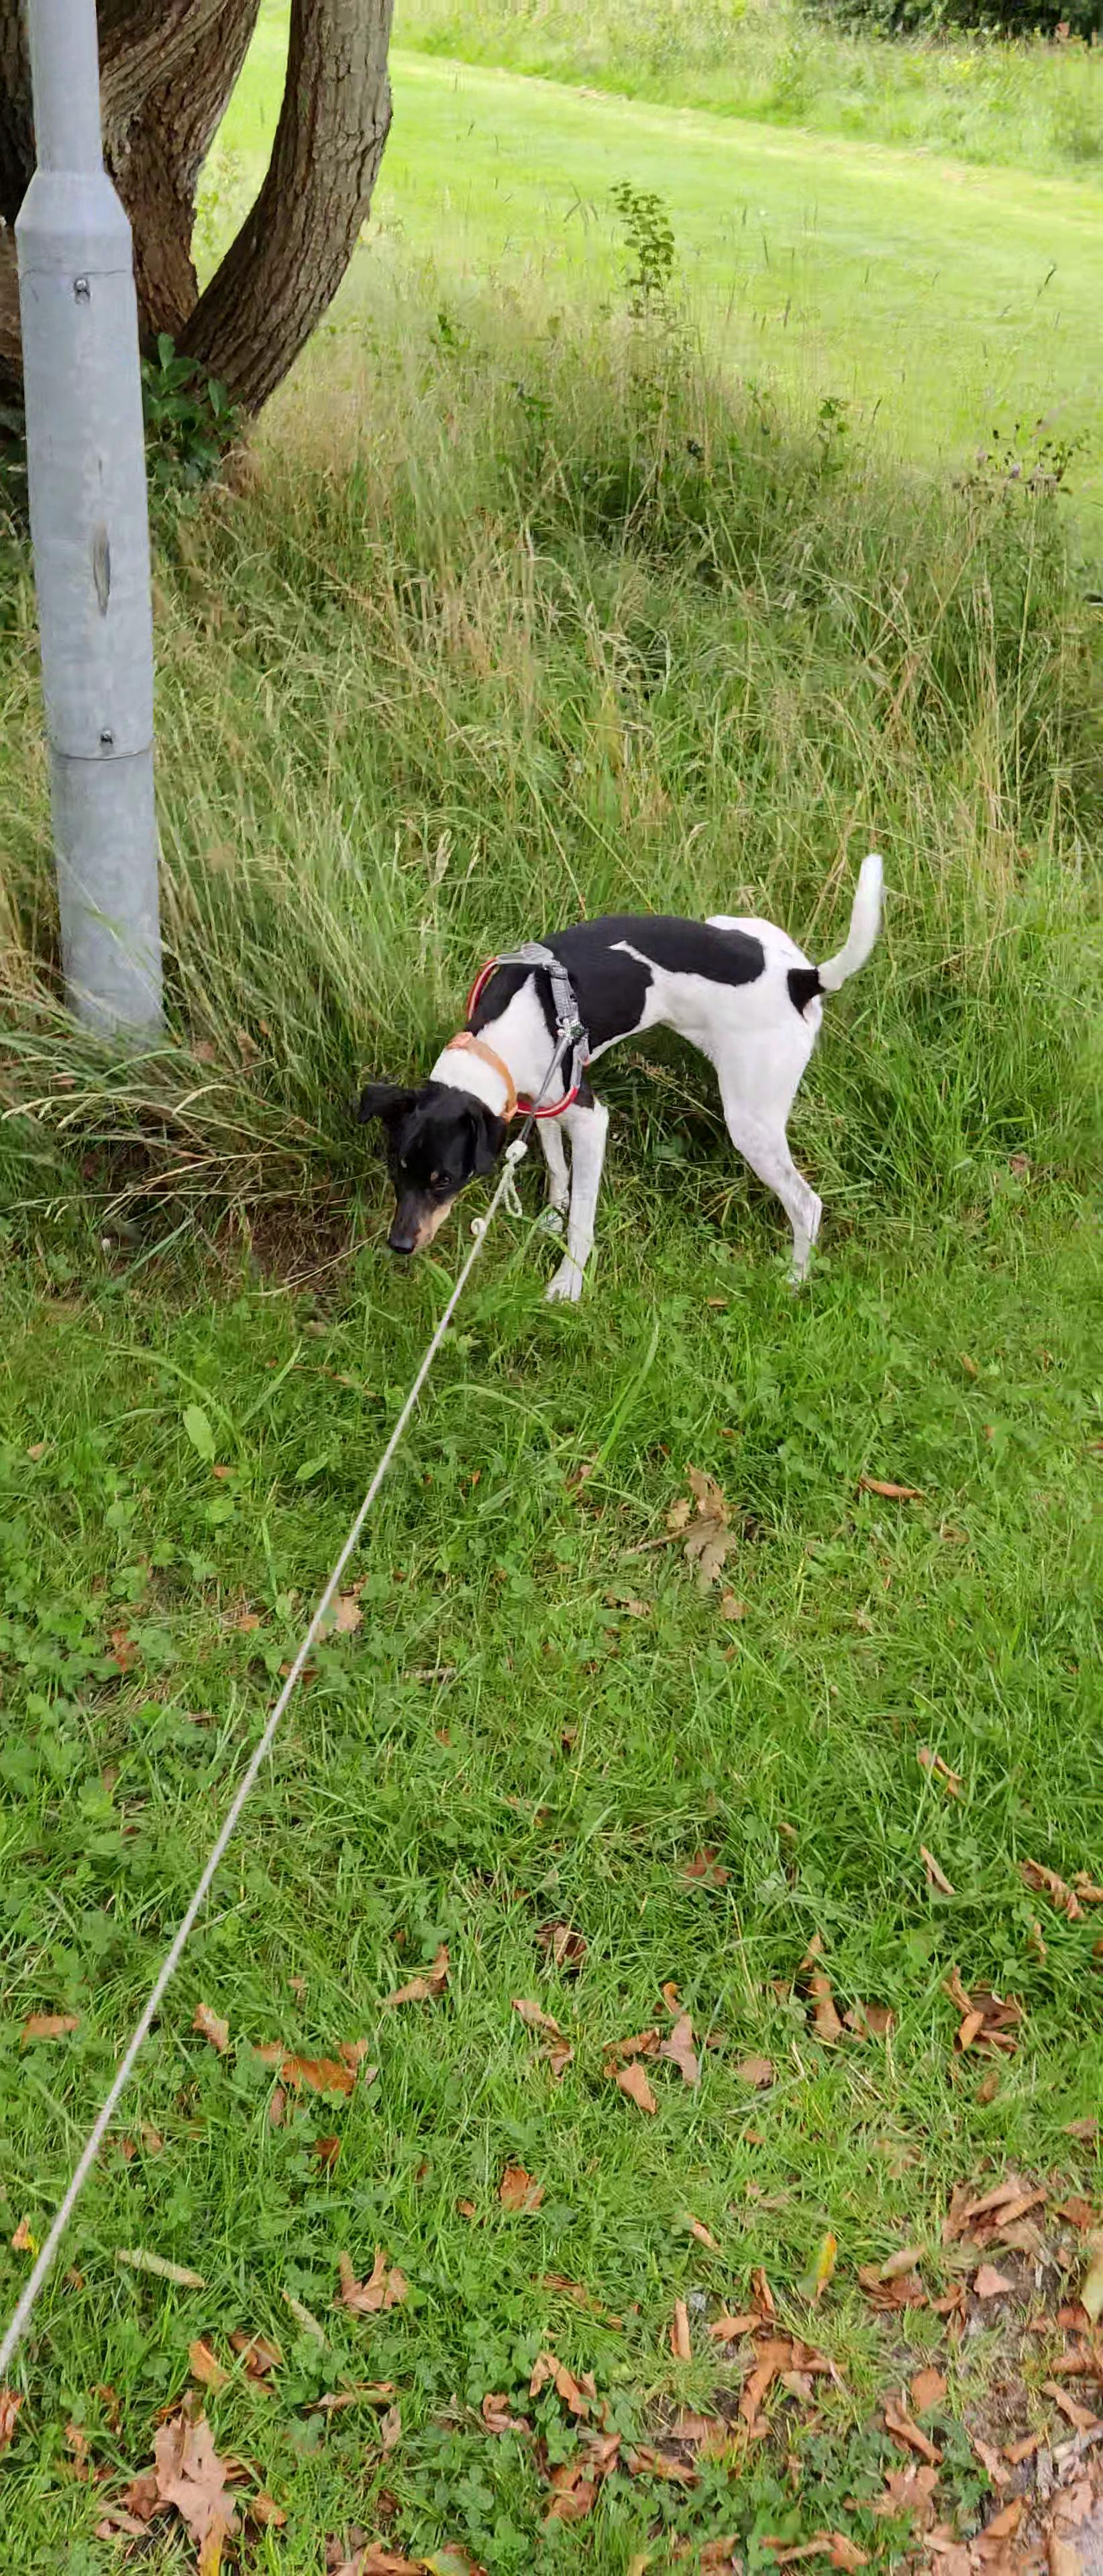Dog: (340, 836, 894, 1331)
